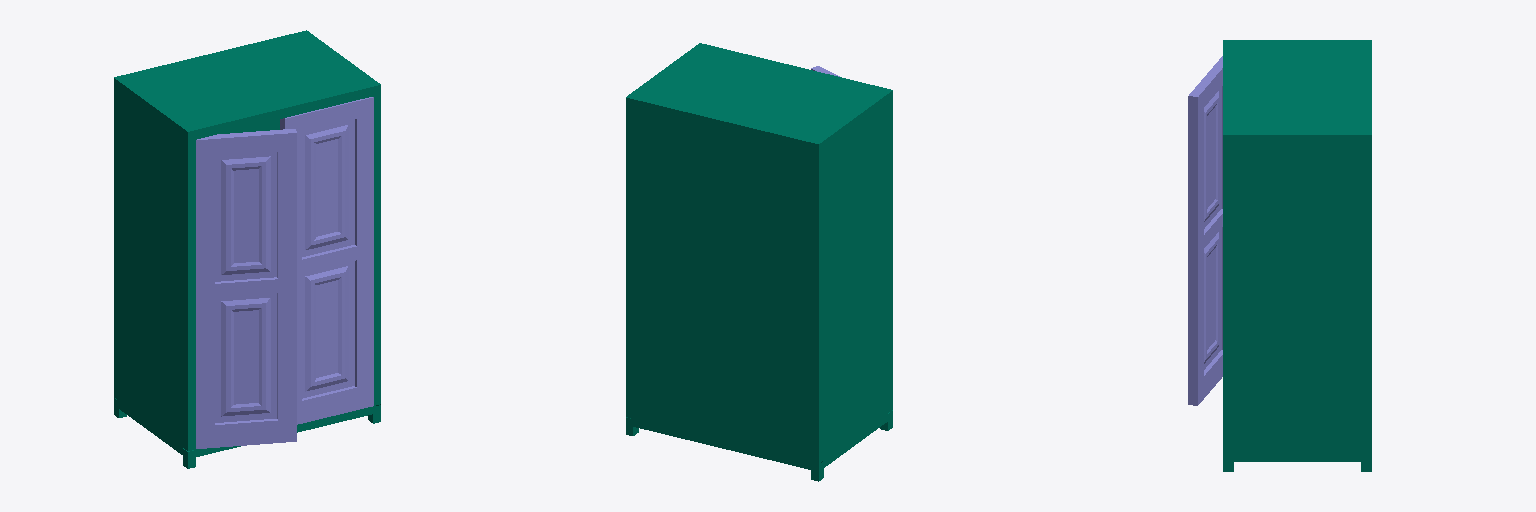
The model's file is kastj.obj.
The picture shows the model from 3 angles: view 1: azimuth 30°, elevation 25°; view 2: azimuth 150°, elevation 25°; view 3: azimuth 270°, elevation 25°; orthographic projection.
Visible parts, largest first — view 1: kast_frame, deur_links, deur_rechts; view 2: kast_frame; view 3: kast_frame, deur_links.
Boxes of the visible parts, x1=… form: kast_frame: x1=114, y1=30, x2=380, y2=468; deur_links: x1=196, y1=129, x2=296, y2=448; deur_rechts: x1=280, y1=97, x2=373, y2=424; kast_frame: x1=626, y1=43, x2=892, y2=481; kast_frame: x1=1223, y1=40, x2=1371, y2=471; deur_links: x1=1188, y1=56, x2=1222, y2=405.
Size of the model in its own units: 30 by 50 by 24.63.